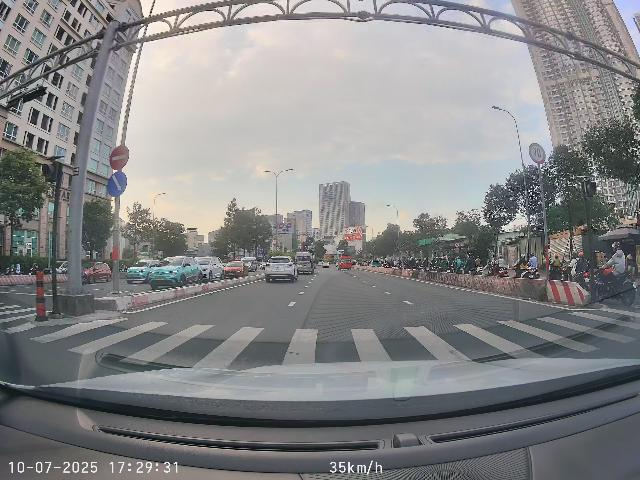102-cam-di-nguoc-chieu: (109, 145, 130, 170)
127-toc-do-toi-da-70: (529, 142, 546, 164)
302a-huong-phai-di-vong-chuong-ngai-vat-1: (107, 171, 127, 197)
